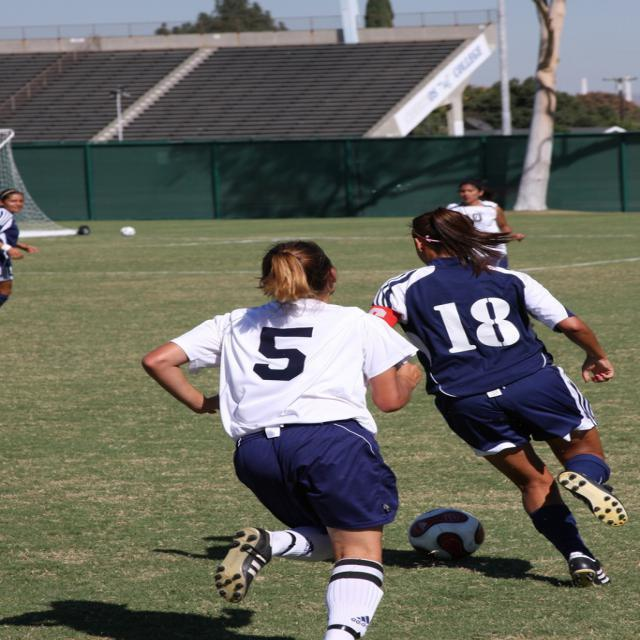ball: (410, 510, 494, 558)
